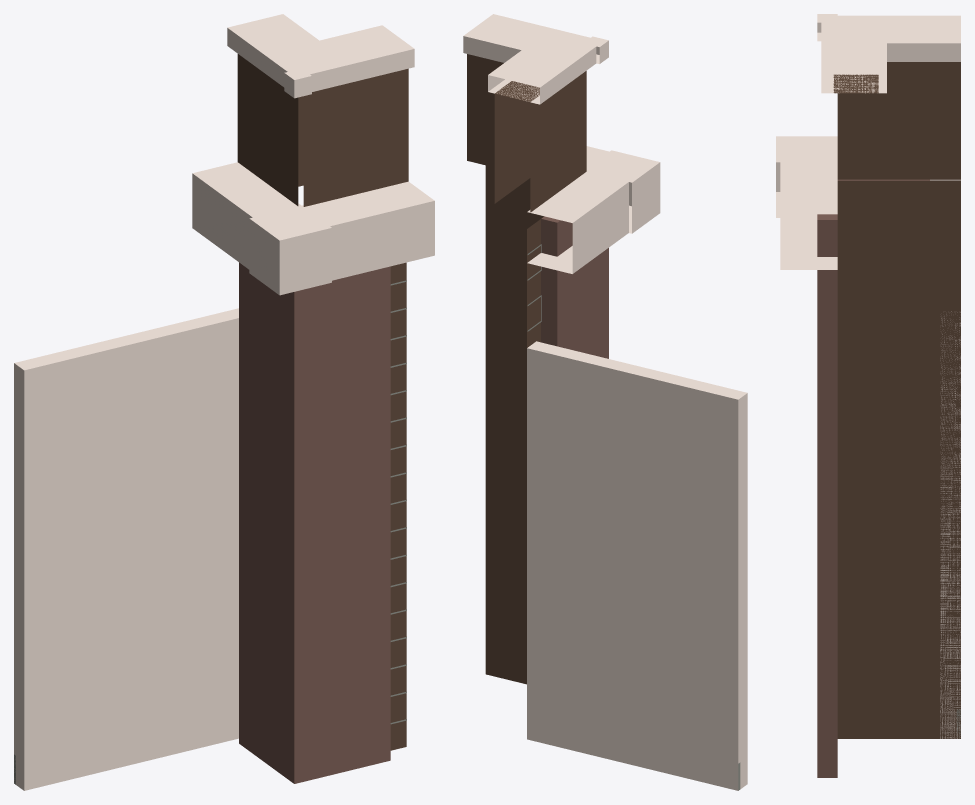
Rendered from top-c2_close.fbx.
3 renders of one model, left to right at view 1: azimuth 30°, elevation 25°; view 2: azimuth 150°, elevation 25°; view 3: azimuth 270°, elevation 25°, orthographic. The views are drawn at different scales.
Parts seen in each view (by area): view 1: a2001/800/top-c2_close; view 2: a2001/800/top-c2_close; view 3: a2001/800/top-c2_close.
Boxes of the visible parts, <box> form: a2001/800/top-c2_close: <box>14,14,434,790</box>; a2001/800/top-c2_close: <box>463,14,747,790</box>; a2001/800/top-c2_close: <box>776,14,960,777</box>.
Bounding box in the file's own units: 1.9 × 3.85 × 0.9.
